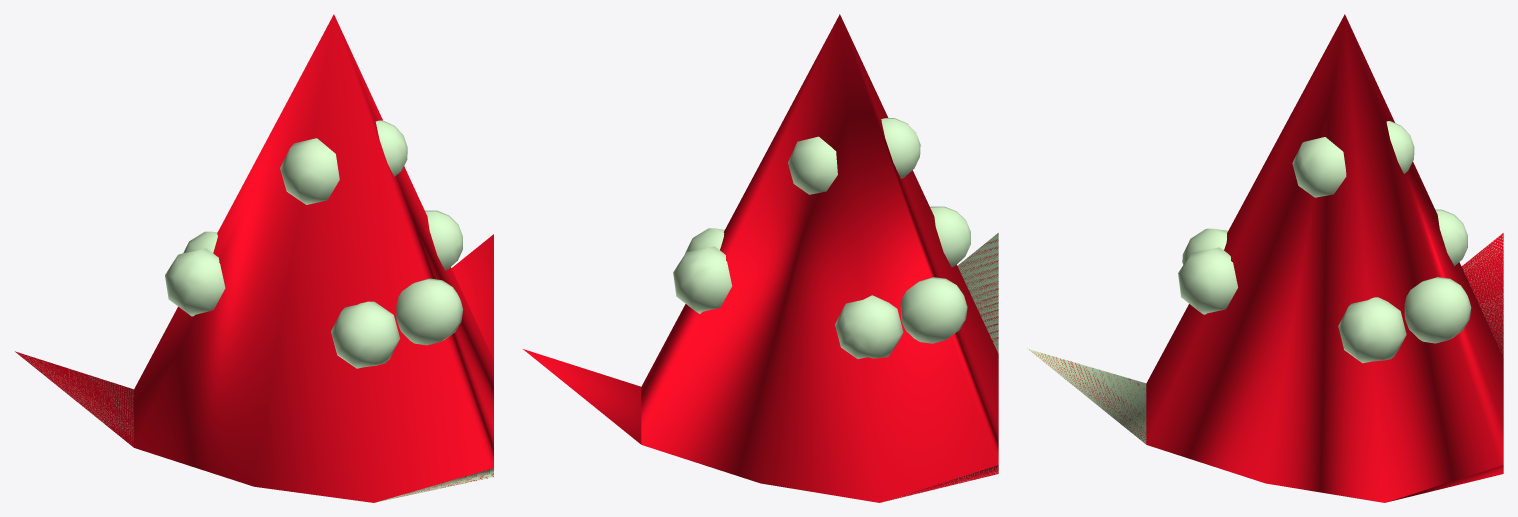
Rendered from Toy227.fbx.
3 renders of one model, left to right at view 1: azimuth 30°, elevation 25°; view 2: azimuth 150°, elevation 25°; view 3: azimuth 270°, elevation 25°, orthographic.
Parts seen in each view (by area): view 1: Toy227; view 2: Toy227; view 3: Toy227.
Boxes of the visible parts, x1=… form: Toy227: x1=15, y1=14, x2=493, y2=502; Toy227: x1=523, y1=14, x2=998, y2=502; Toy227: x1=1028, y1=14, x2=1503, y2=502.
Size of the model in its own units: 0.1642 by 0.1471 by 0.1422.
